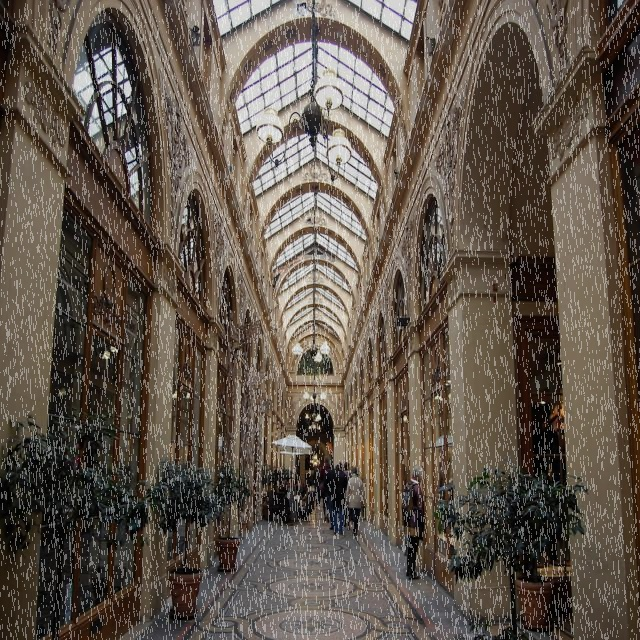pessoa: (225, 306, 268, 478), (532, 407, 566, 551), (400, 464, 426, 581), (344, 465, 366, 537), (329, 458, 349, 536), (436, 444, 454, 526), (323, 458, 336, 524), (318, 454, 330, 523), (342, 460, 352, 530), (312, 464, 322, 508), (293, 466, 302, 508), (401, 462, 409, 489), (298, 476, 307, 499), (294, 478, 304, 493), (333, 464, 339, 472)
